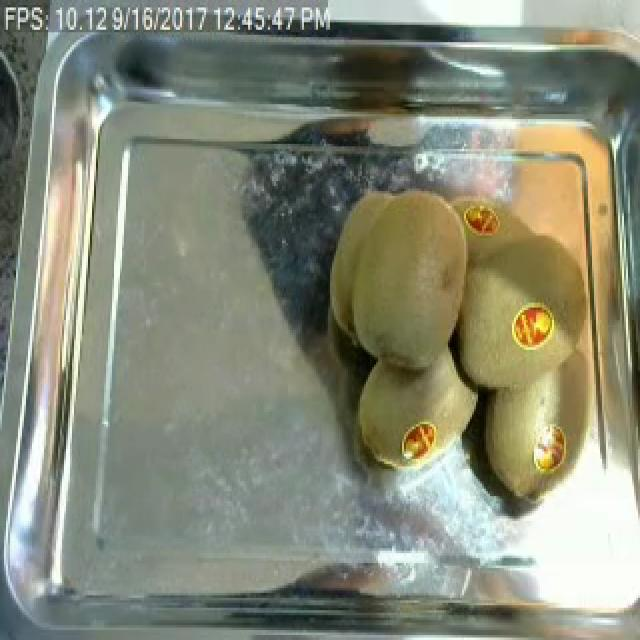Fruit: (316, 173, 482, 380), (346, 345, 488, 481), (504, 298, 562, 354)
